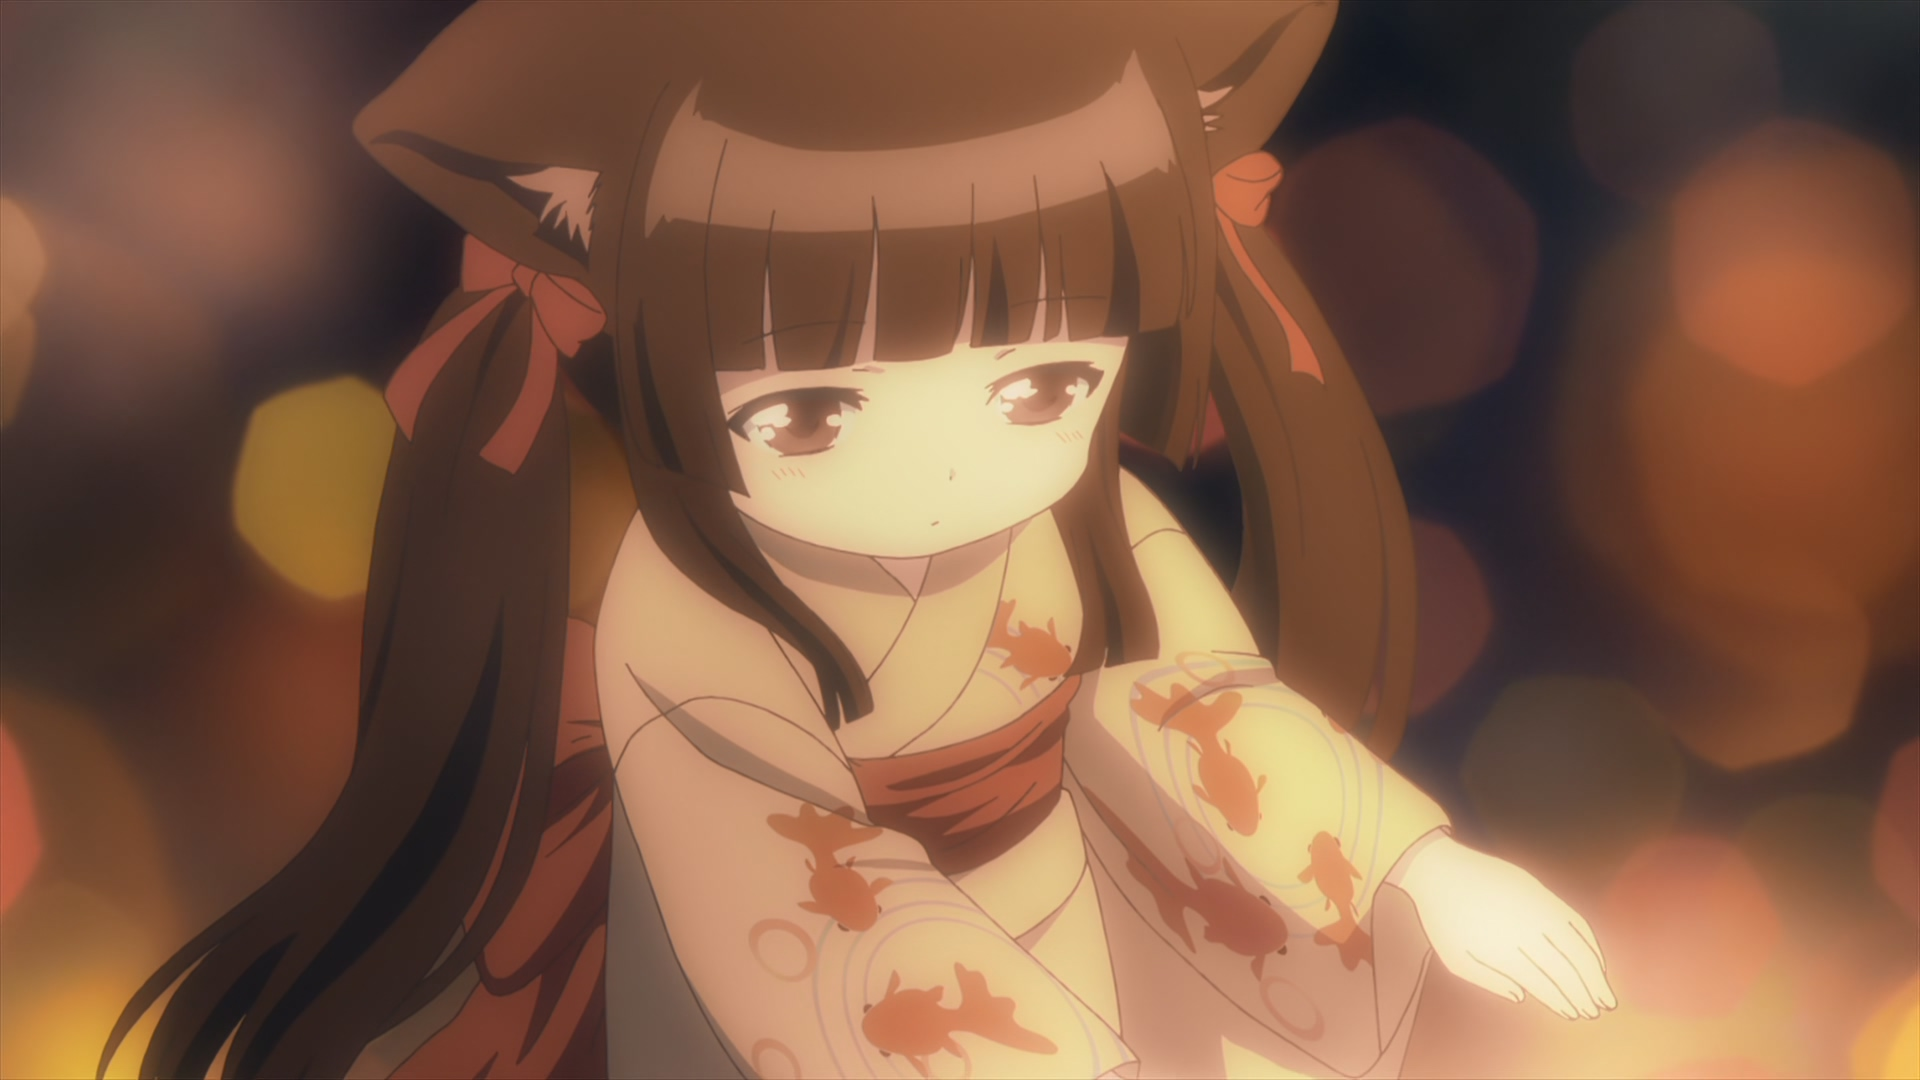樱: (102, 1, 1626, 1080)
